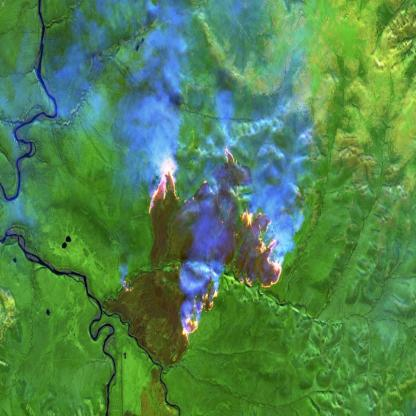fire: (118, 144, 290, 346)
